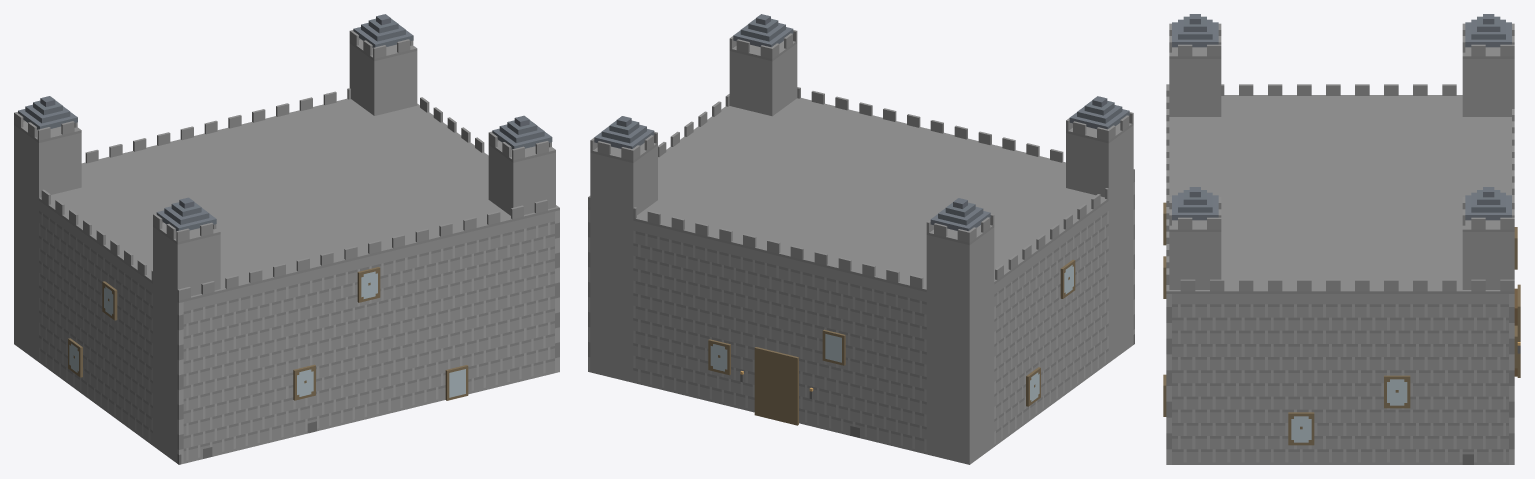
File: castillo_01.glb
3 views of the same model, side by side, from view 1: azimuth 30°, elevation 25°; view 2: azimuth 150°, elevation 25°; view 3: azimuth 270°, elevation 25° (orthographic). The views are drawn at different scales.
Parts seen in each view (by area): view 1: castillo_01; view 2: castillo_01; view 3: castillo_01.
Part boxes in pixels (x1,y1,x2,y2): castillo_01: (14, 14, 559, 464); castillo_01: (588, 14, 1134, 464); castillo_01: (1163, 14, 1520, 464).
Bounding box in the file's own units: 16.2 × 10 × 12.3.
